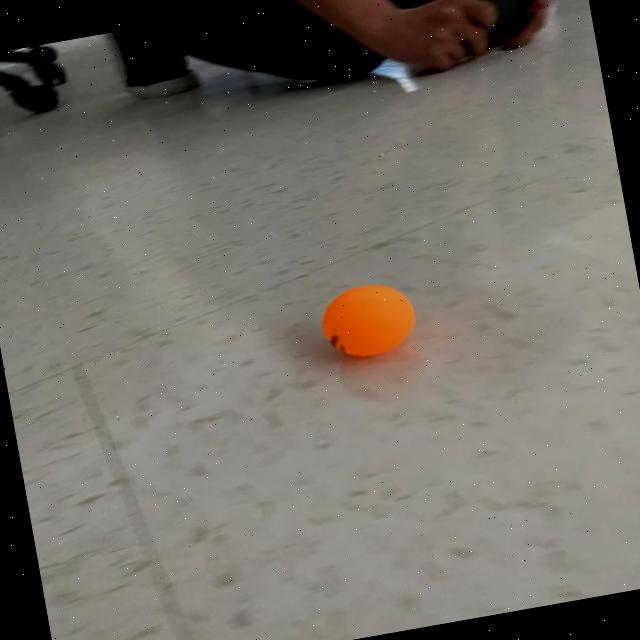ping-pong-ball: (309, 274, 428, 366)
